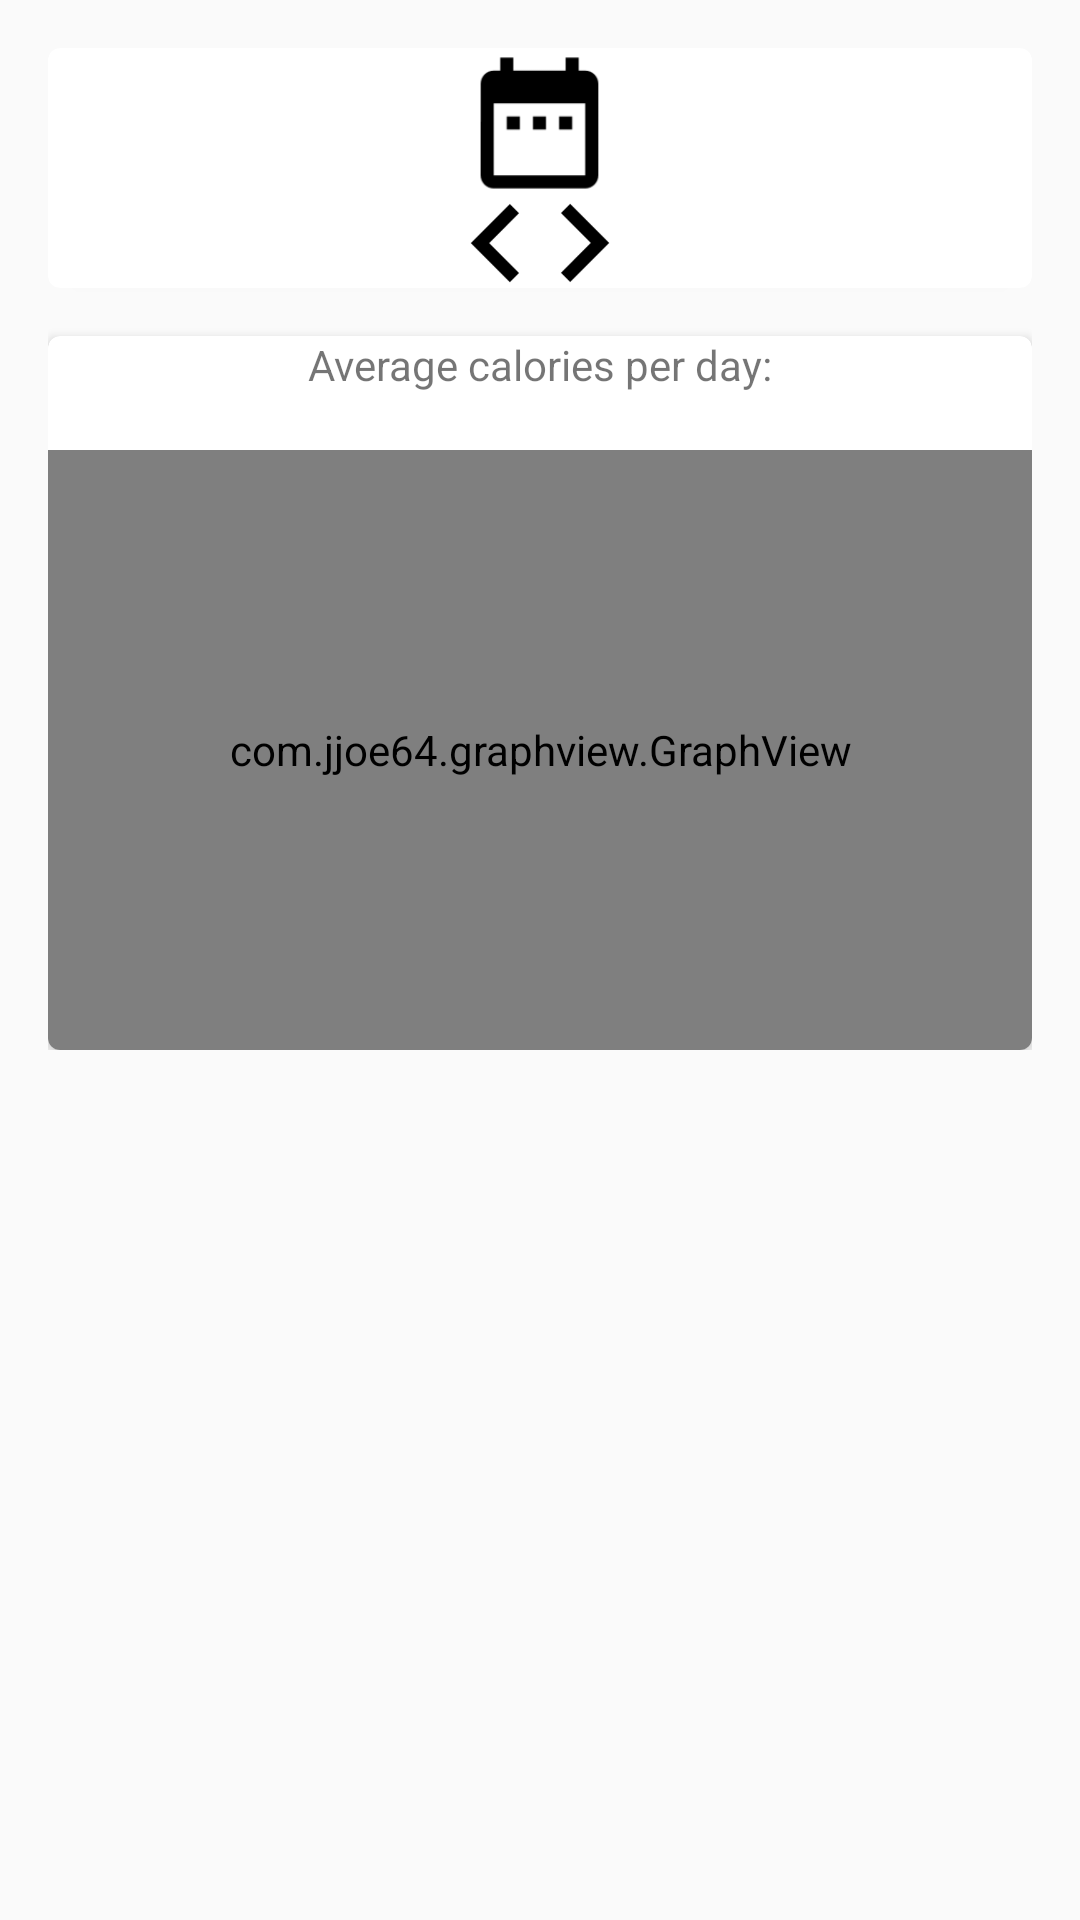

Where to tap for icons on this 1080x1920 app screen, as [x,y]:
date: [539,123]
left arrow timmed: [495,243]
right arrow timmed: [585,243]
